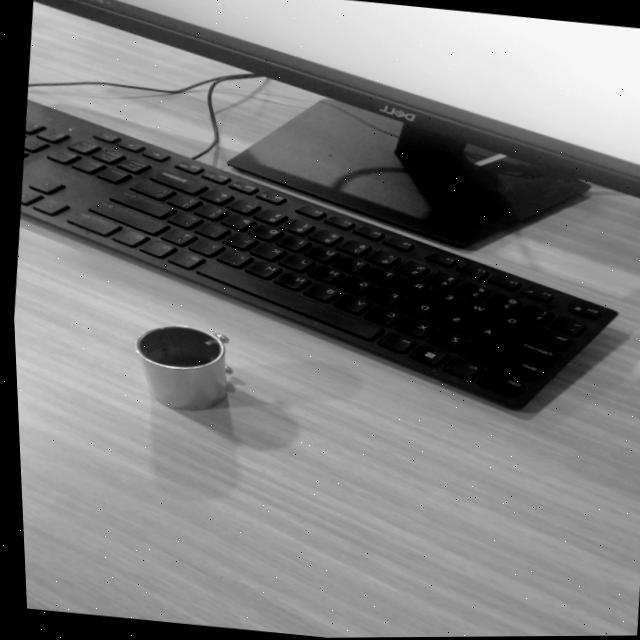Co_Lon: (134, 324, 227, 409)
